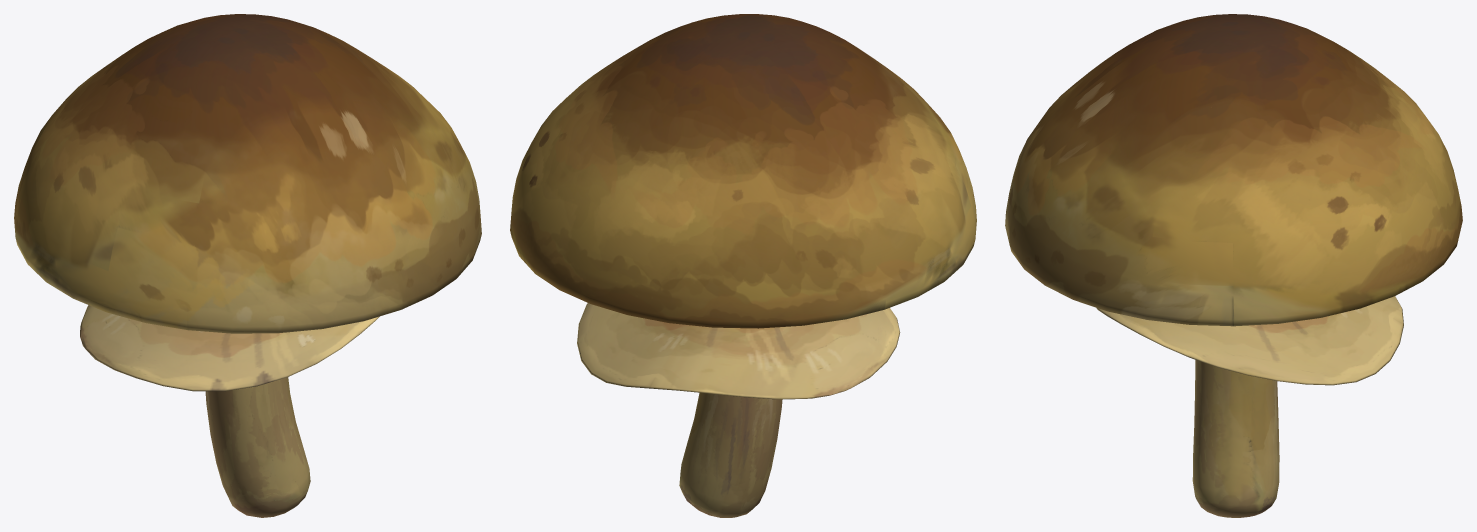
Rendered from Glowshroom.fbx.
3 views of the same model, side by side, from view 1: azimuth 30°, elevation 25°; view 2: azimuth 150°, elevation 25°; view 3: azimuth 270°, elevation 25° (orthographic). The views are drawn at different scales.
Visible parts, largest first — view 1: Glowshroom; view 2: Glowshroom; view 3: Glowshroom.
Boxes of the visible parts, bbox=[...] form: Glowshroom: bbox=[14, 14, 481, 517]; Glowshroom: bbox=[510, 14, 976, 517]; Glowshroom: bbox=[1005, 14, 1462, 517].
Size of what is drawn, in the model's own units: 53.64 by 61.05 by 53.64.
Materials: 1 (1 with a texture image).
